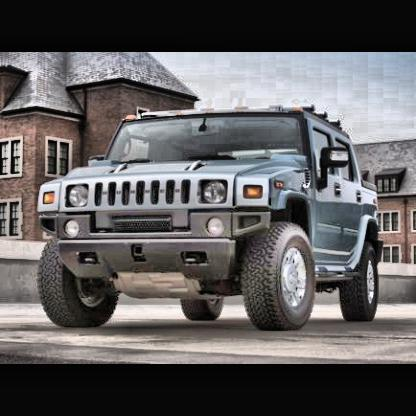HUMMER H2 SUT Crew Cab 2009: (37, 108, 387, 333)
